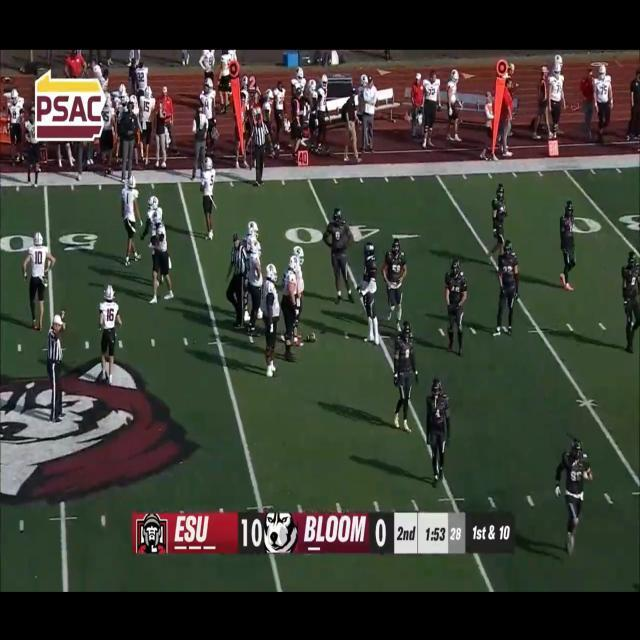football: (304, 335, 316, 343)
